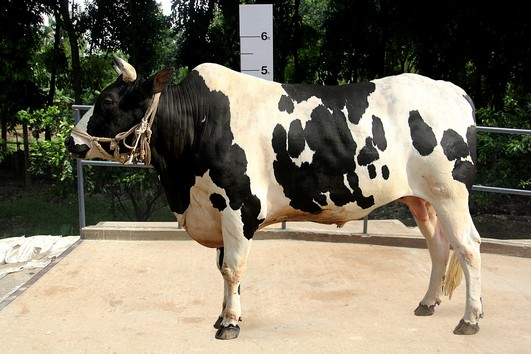cow: (59, 50, 493, 342)
